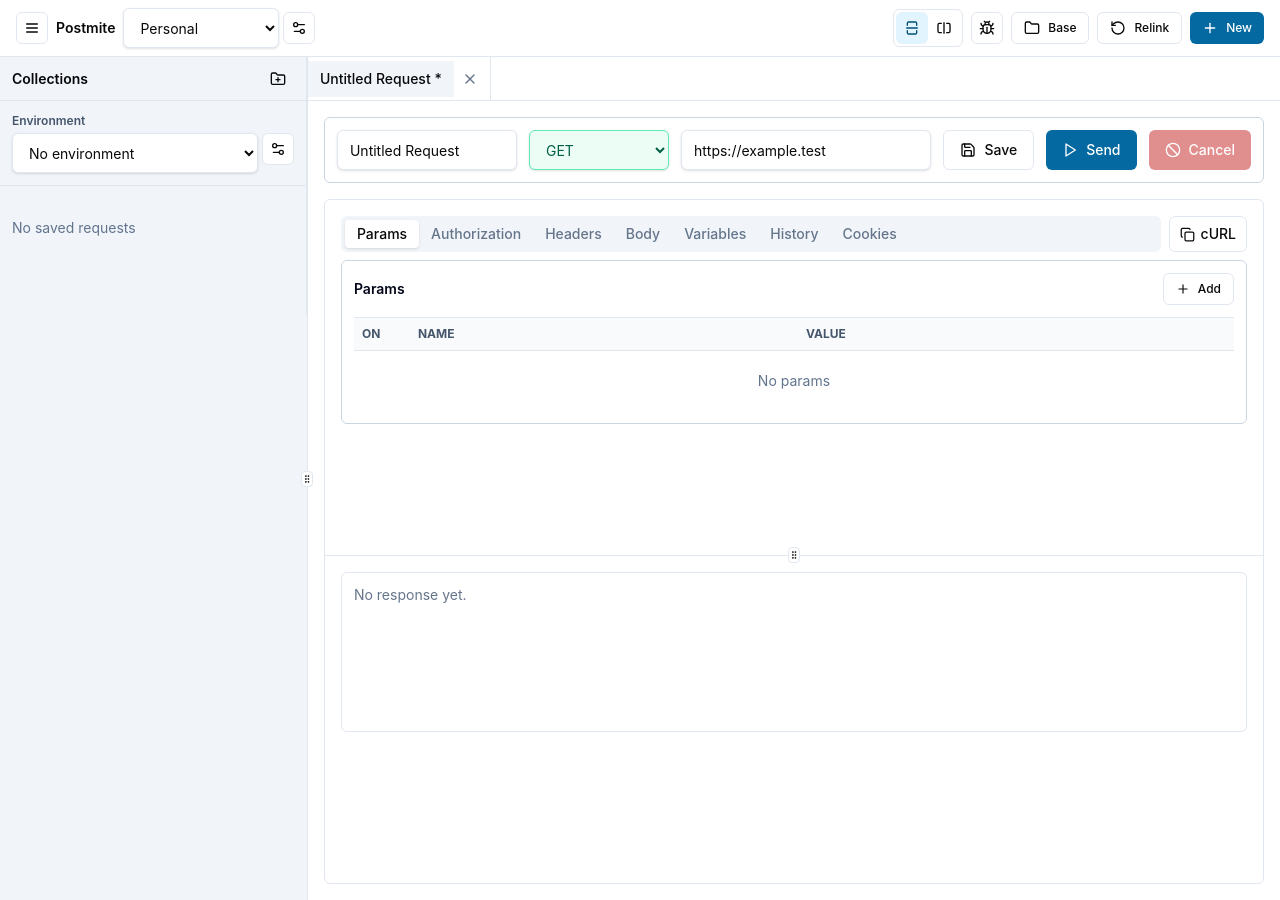
Test: App request editor › reports clipboard failure without exposing generated output
Click the button with aria-label "Copy cURL": x=1208, y=234 [1169,216,1247,252]
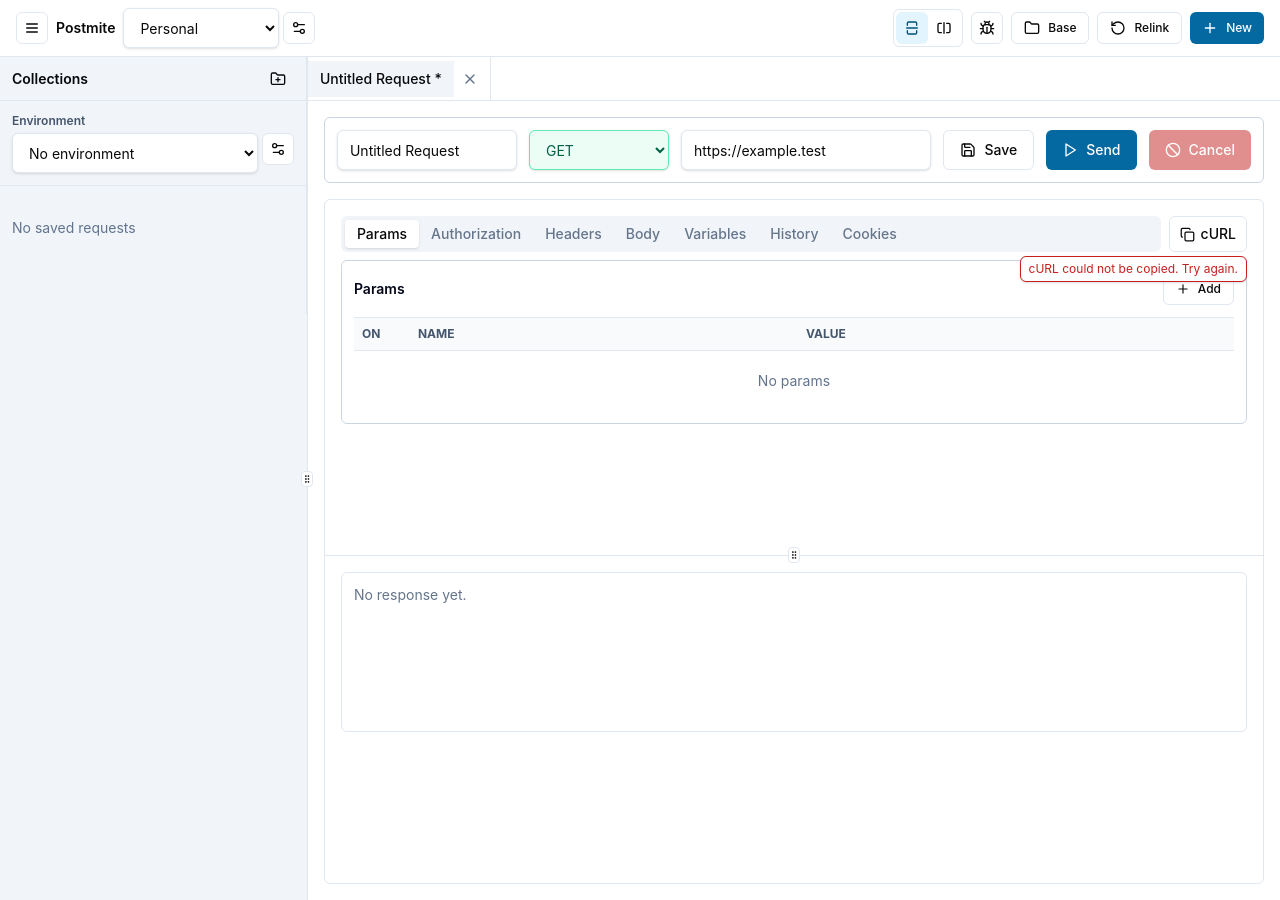
Expected: the message does not show "private-output", [1020,256,1247,282]
Expected: the message reads "cURL could not be copied. Try again.", [1029,261,1238,276]
